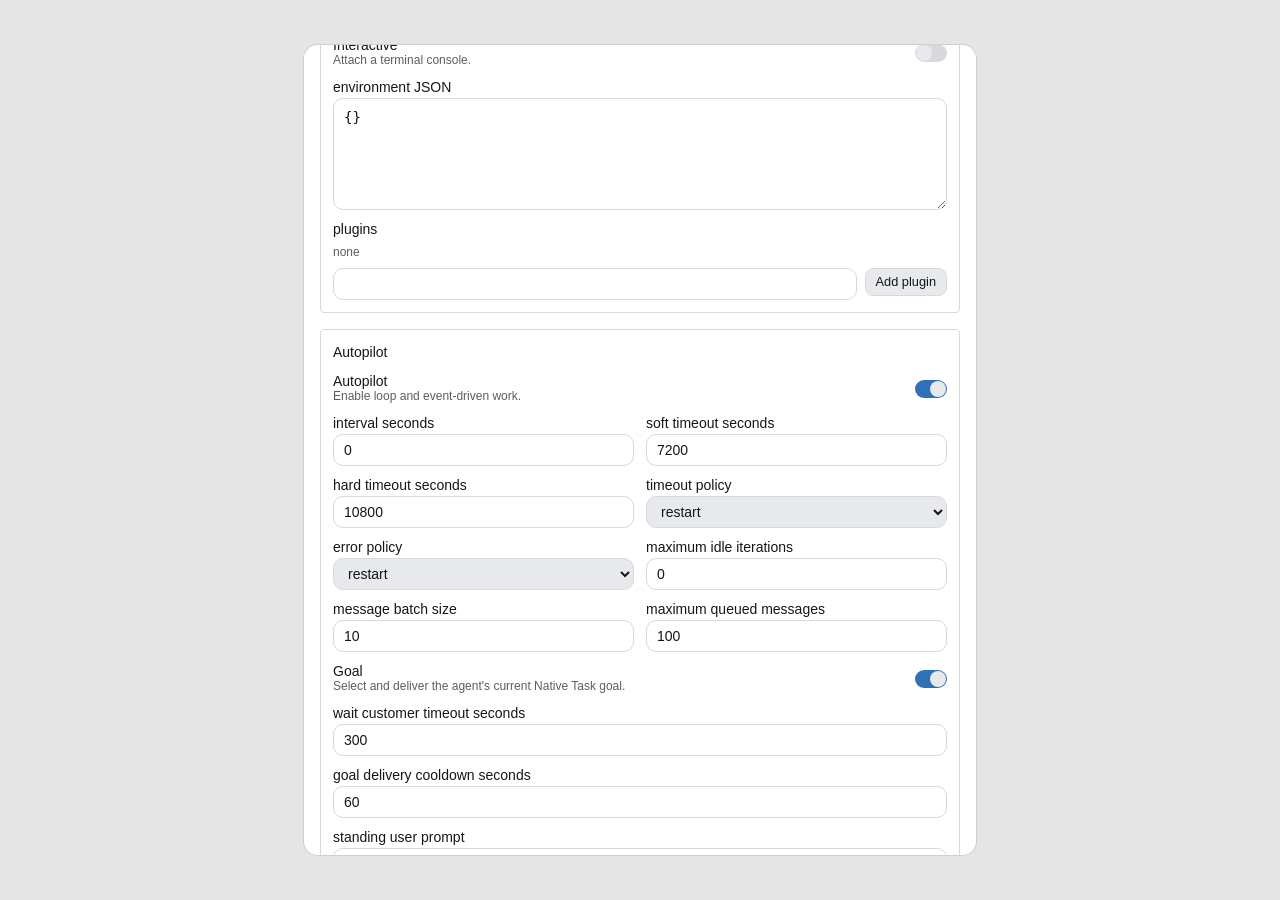
it: rejects non-integral numeric configuration before creation
The width and height of the screenshot is (1280, 900).
(page scrolled)
Replace the text in the number field labelled "interval seconds" with "1.5" at (484, 450), box left=333, top=434, right=634, bottom=466
(page scrolled)
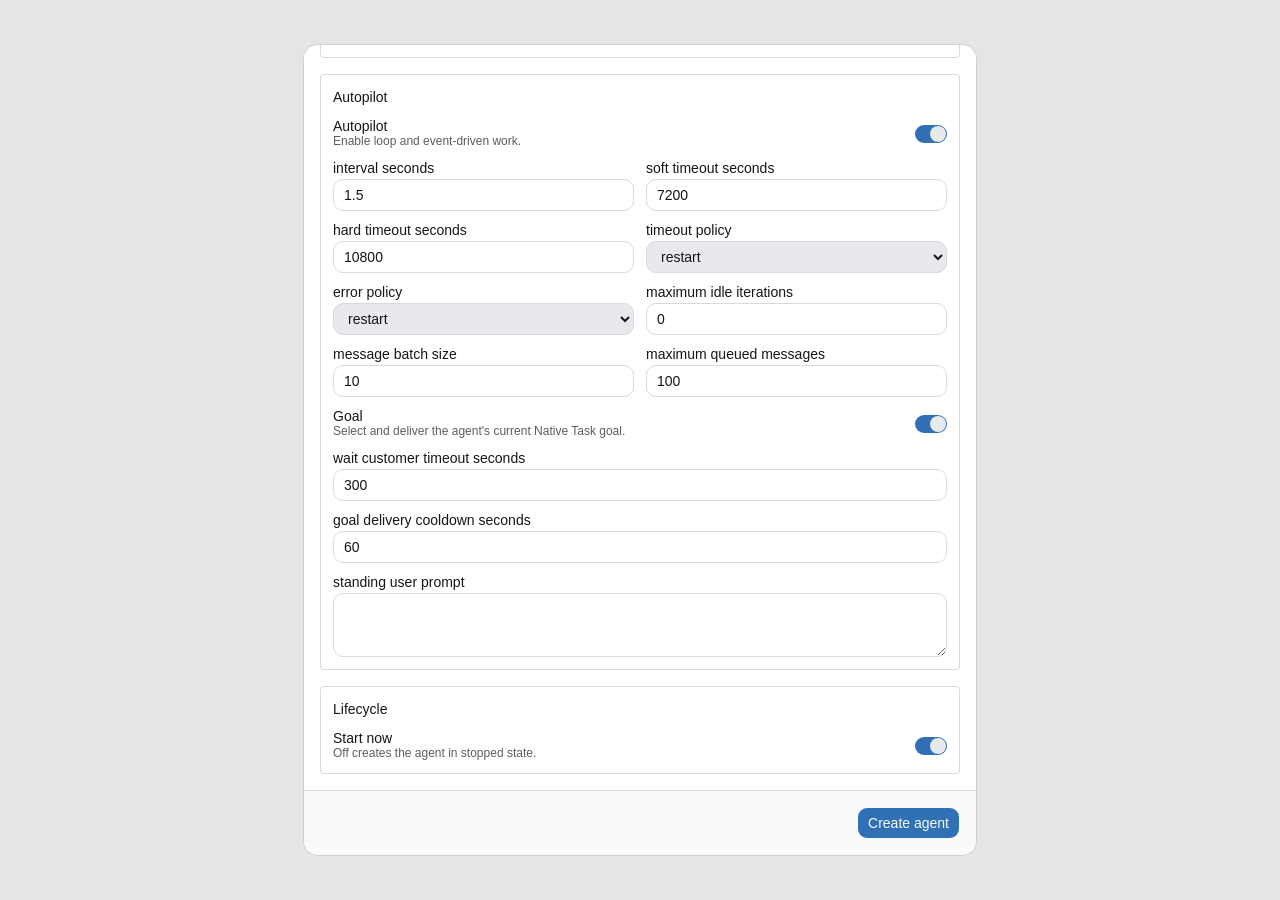
Click the button "Create agent" at (908, 823), box left=857, top=807, right=960, bottom=839
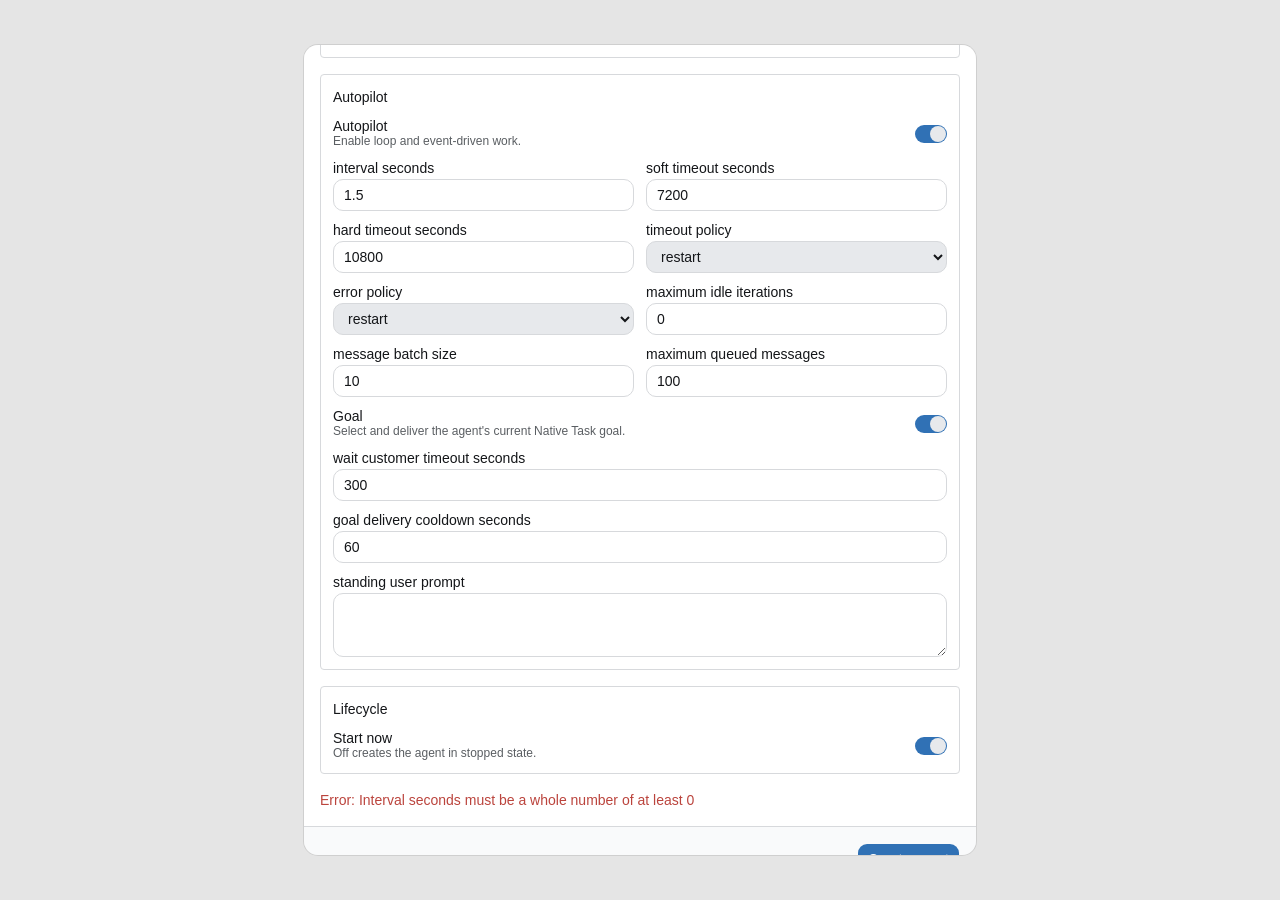
Result: the message shows "Interval seconds must be a whole number of at least 0" at left=320, top=792, right=694, bottom=808
